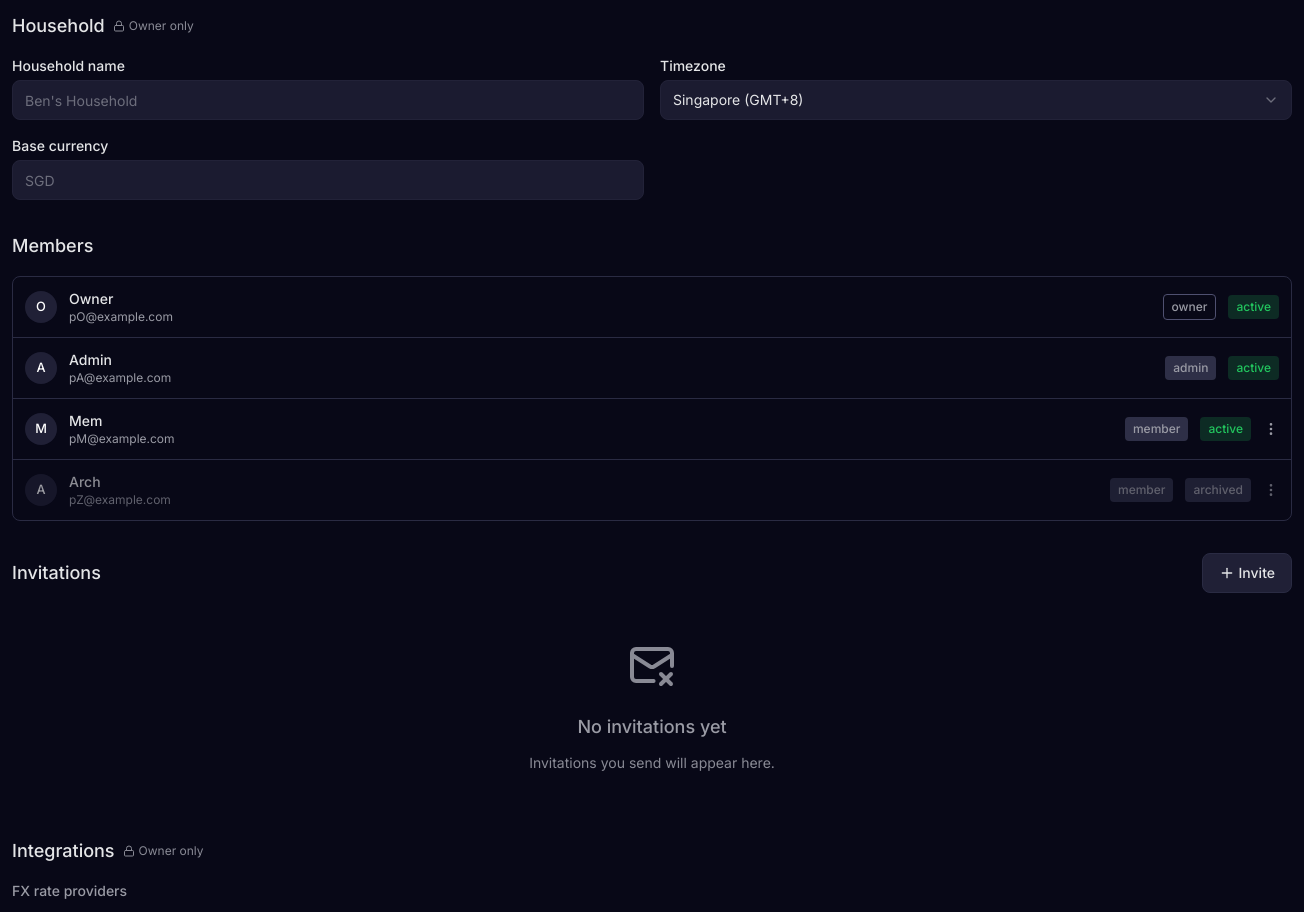
Promote / Demote (owner viewer only) › admin viewer: no role item on a member row
The width and height of the screenshot is (1304, 912).
Check: the text "Mem" is shown, box [69, 412, 102, 429]
Click the button named "Actions for Mem" in the row of "pM@example.com" at (1263, 421), box [1263, 421, 1279, 437]
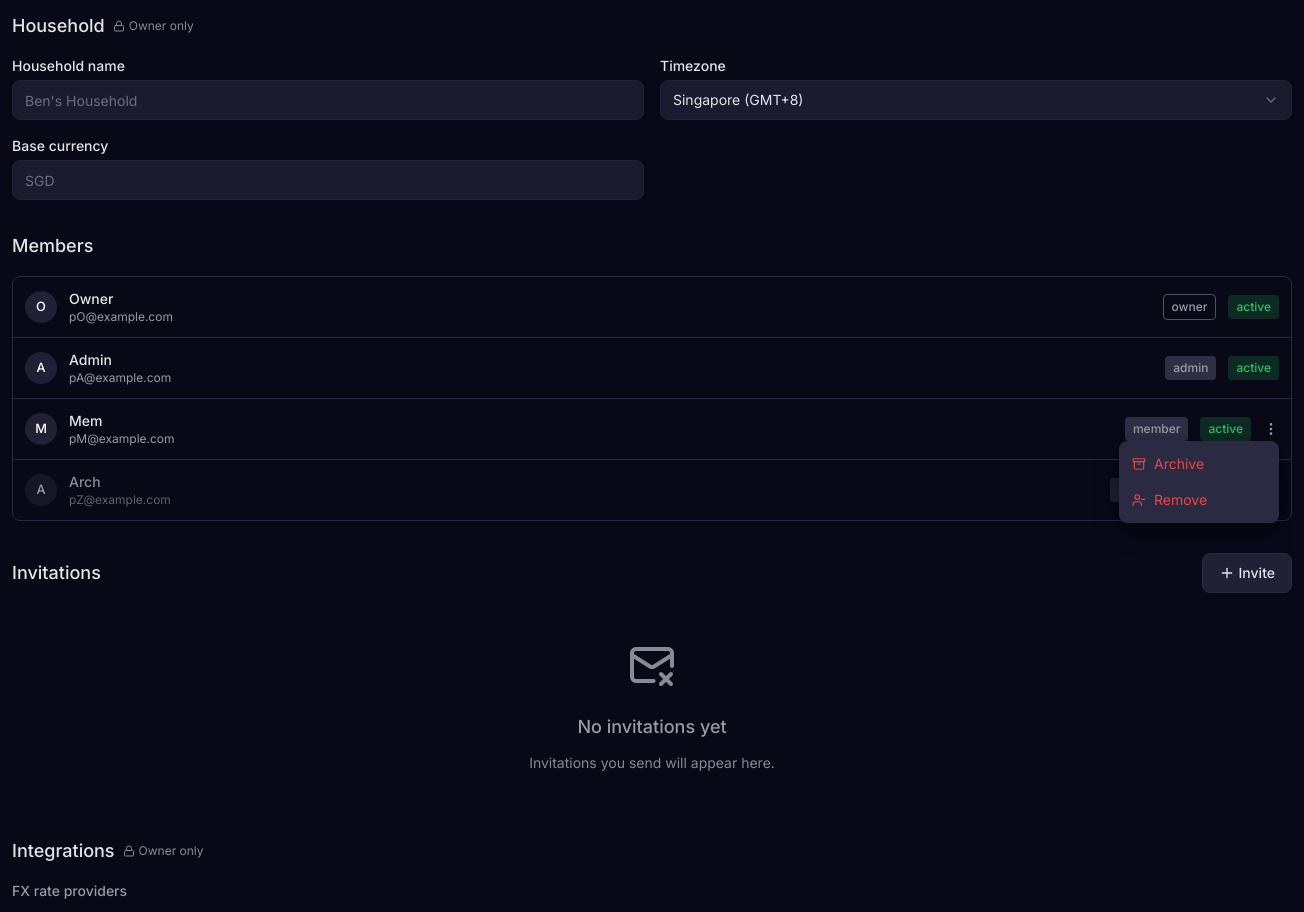
Check: the menu item "Archive" is shown, box [1120, 446, 1278, 482]
